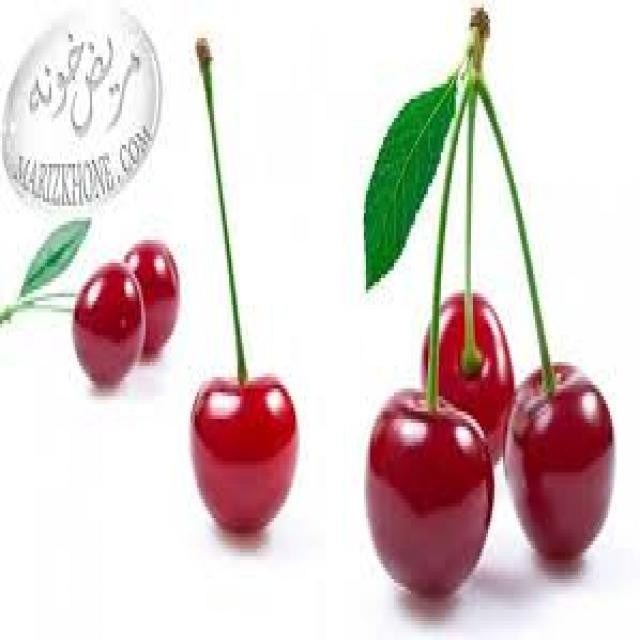cherry: (362, 4, 620, 617), (188, 34, 302, 541), (2, 236, 184, 396)
